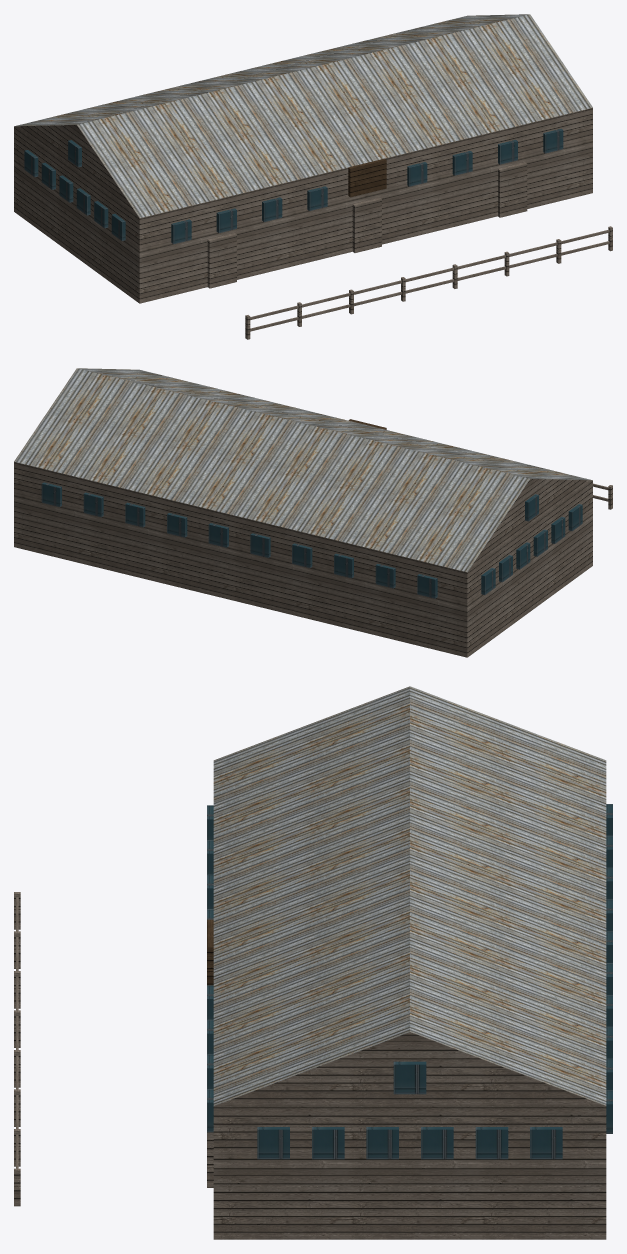
Rendered from horse-stable_lod0.gltf.
3 renders of one model, top to bottom at view 1: azimuth 30°, elevation 25°; view 2: azimuth 150°, elevation 25°; view 3: azimuth 270°, elevation 25°, orthographic. The views are drawn at different scales.
Parts seen in each view (by area): view 1: horse-stable_roof, horse-stable_walls, horse-stable_fen_07-glass-curtain-blue_0, horse-stable__paddock_fence, horse-stable_gable_ends, horse-stable__dutch_door_c, horse-stable__dutch_door_a, horse-stable__dutch_door_b, horse-stable_fen_18-timber-siding_1_t; view 2: horse-stable_roof, horse-stable_walls, horse-stable_fen_07-glass-curtain-blue_0, horse-stable_gable_ends; view 3: horse-stable_roof, horse-stable_walls, horse-stable_gable_ends, horse-stable_fen_07-glass-curtain-blue_0, horse-stable__paddock_fence.
Part boxes in pixels (left/top/right/bottom): horse-stable_roof: left=15, top=14, right=592, bottom=217; horse-stable_walls: left=14, top=107, right=592, bottom=303; horse-stable_fen_07-glass-curtain-blue_0: left=24, top=128, right=563, bottom=244; horse-stable__paddock_fence: left=245, top=226, right=612, bottom=339; horse-stable_gable_ends: left=14, top=125, right=138, bottom=217; horse-stable__dutch_door_c: left=498, top=162, right=527, bottom=217; horse-stable__dutch_door_a: left=207, top=233, right=236, bottom=288; horse-stable__dutch_door_b: left=352, top=197, right=381, bottom=252; horse-stable_fen_18-timber-siding_1_t: left=348, top=158, right=386, bottom=197; horse-stable_roof: left=14, top=368, right=591, bottom=572; horse-stable_walls: left=14, top=461, right=592, bottom=657; horse-stable_fen_07-glass-curtain-blue_0: left=41, top=482, right=582, bottom=598; horse-stable_gable_ends: left=468, top=479, right=592, bottom=571; horse-stable_roof: left=213, top=686, right=606, bottom=1105; horse-stable_walls: left=213, top=1106, right=606, bottom=1239; horse-stable_gable_ends: left=214, top=1032, right=605, bottom=1106; horse-stable_fen_07-glass-curtain-blue_0: left=207, top=804, right=612, bottom=1159; horse-stable__paddock_fence: left=14, top=892, right=20, bottom=1206.
Bounding box in the file's own units: 25.4 × 7 × 18.3.
